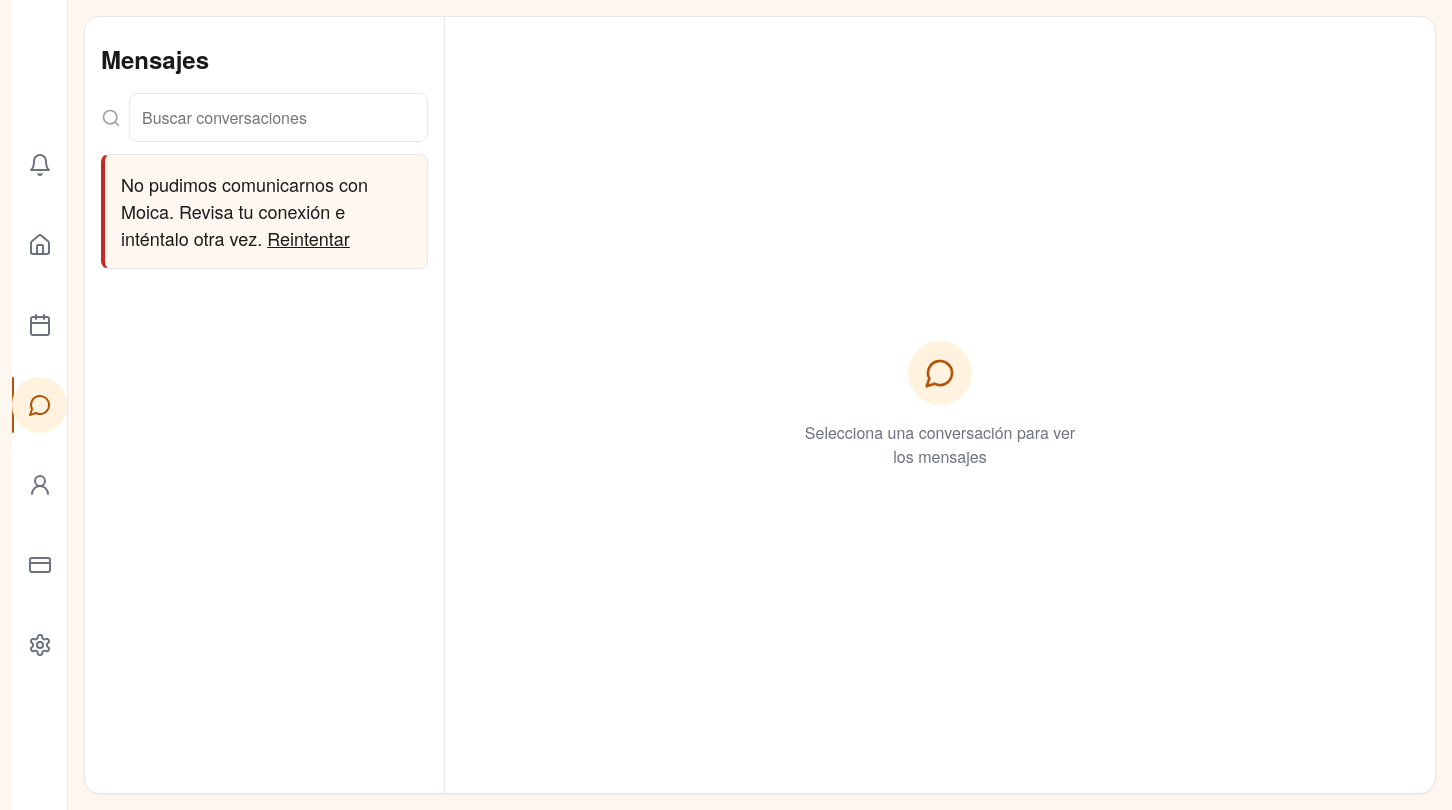
Test: Pantalla de mensajes › muestra un error recuperable en la bandeja y vuelve a intentar
Expected: the message is shown, [101,154,428,269]
Click the button "Reintentar" at {"x": 308, "y": 238}, box [267,225,350,252]
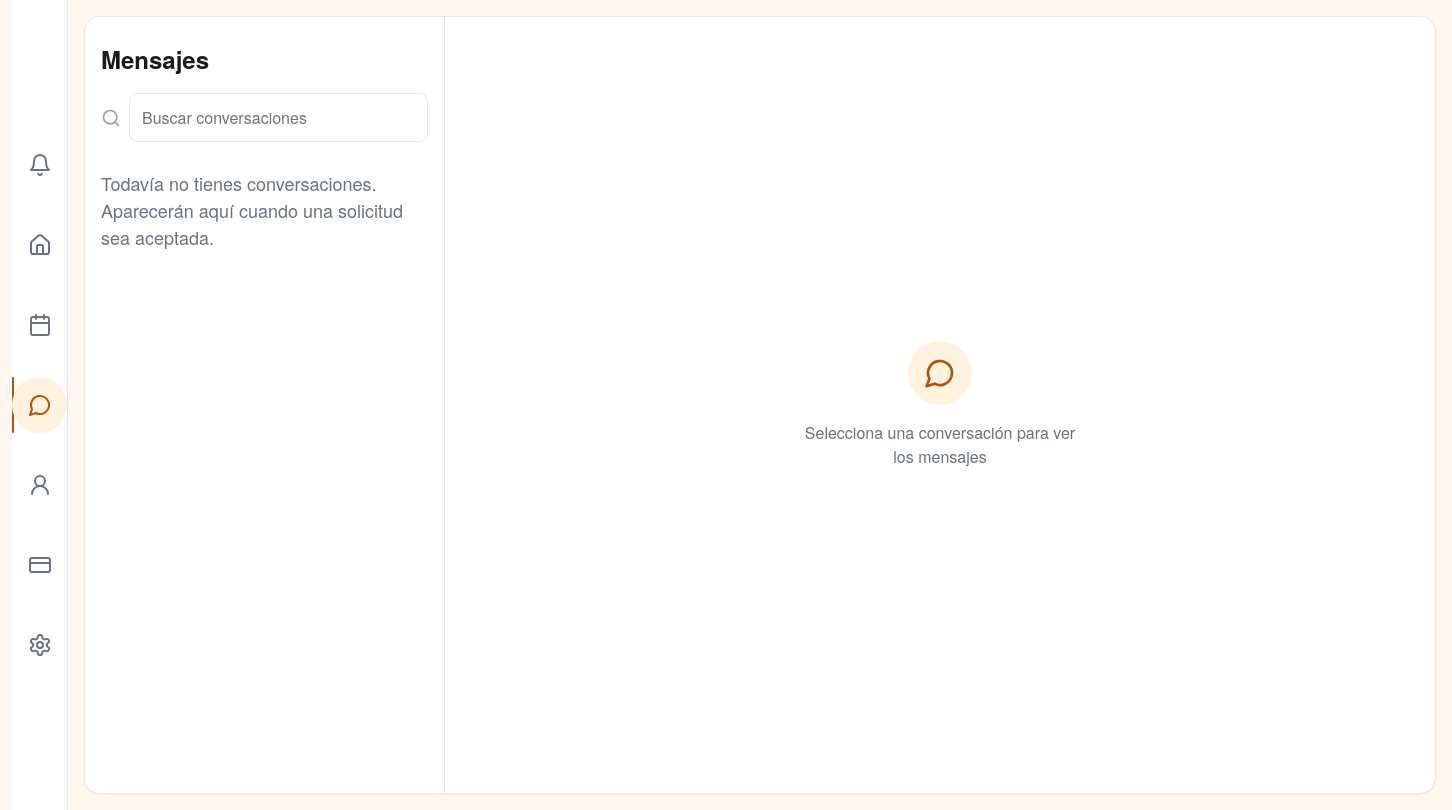
Now the text "Todavía no tienes conversaciones. Aparecerán aquí cuando una solicitud sea aceptada." is shown, box [101,170,403,250]
